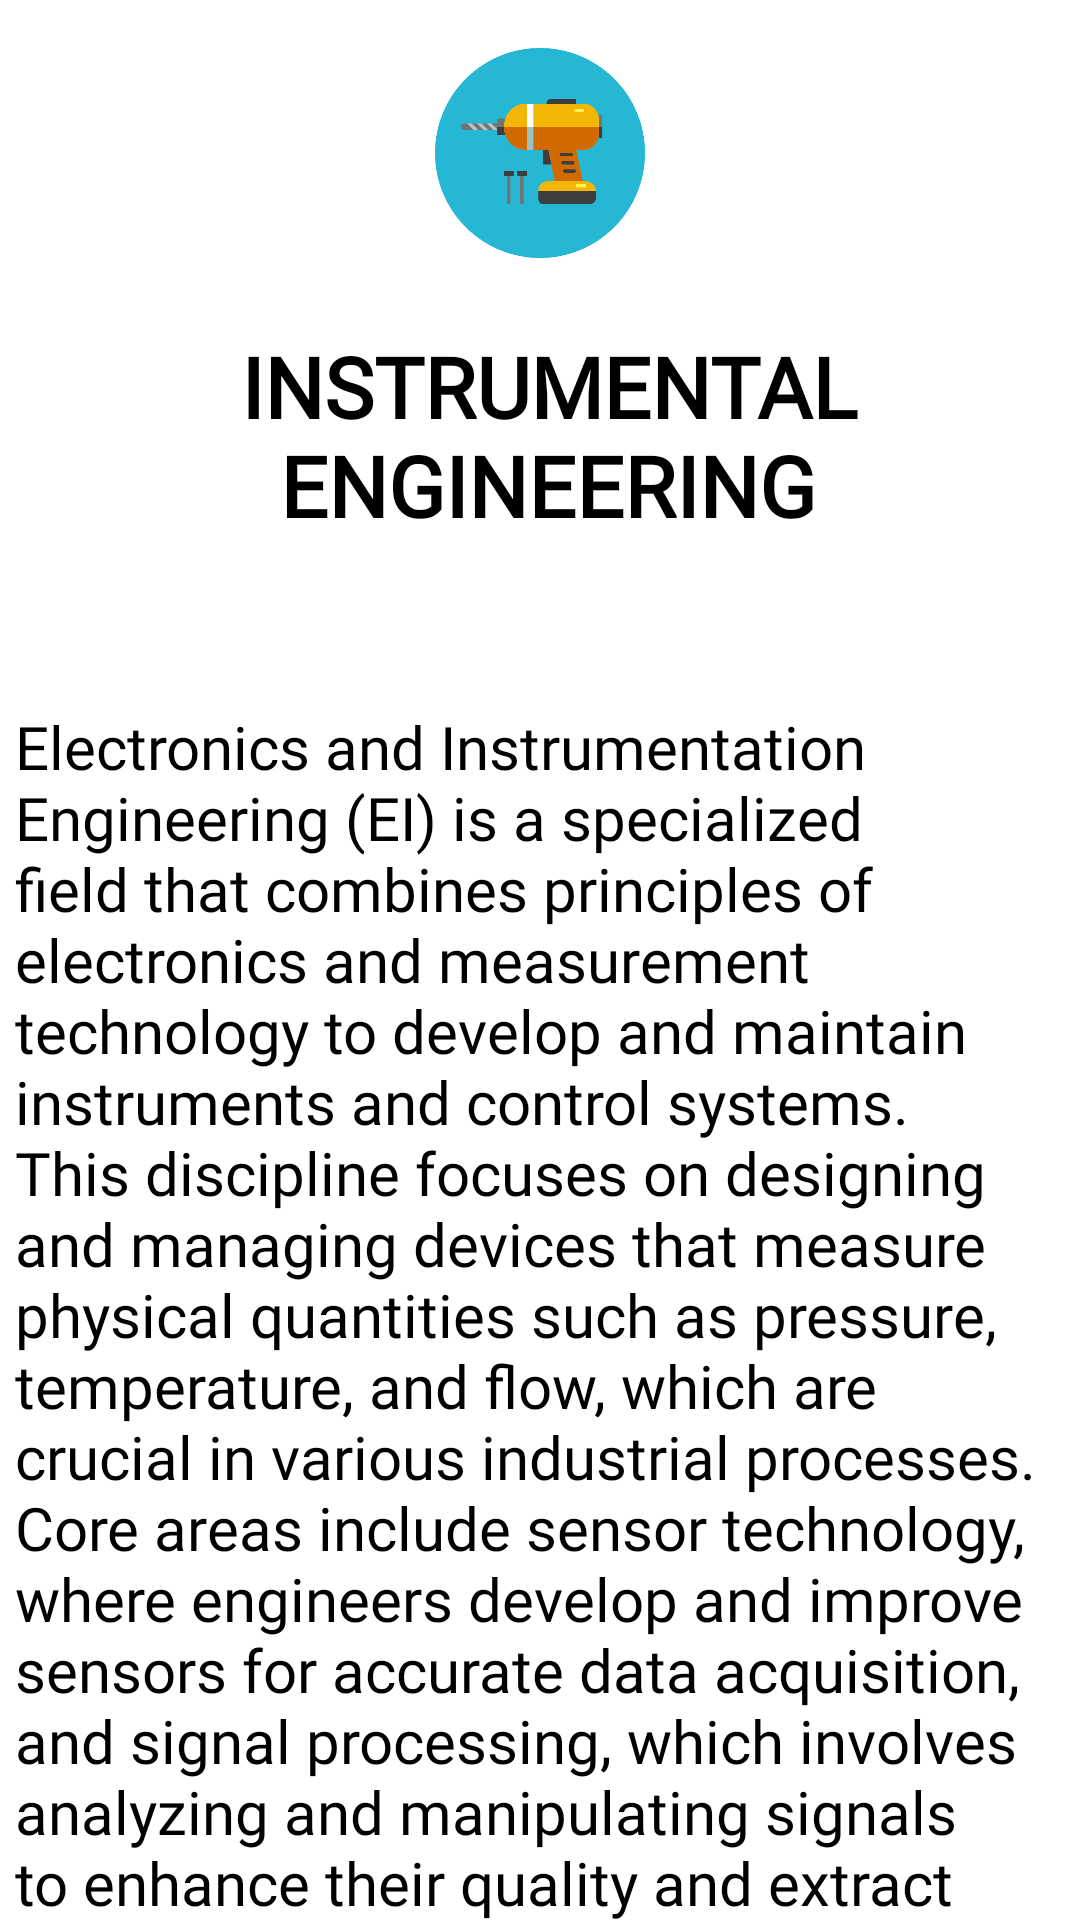

Icons on this 1080*1920 Android screen, each with the point to tap as (x,y):
machine: (540,153)
